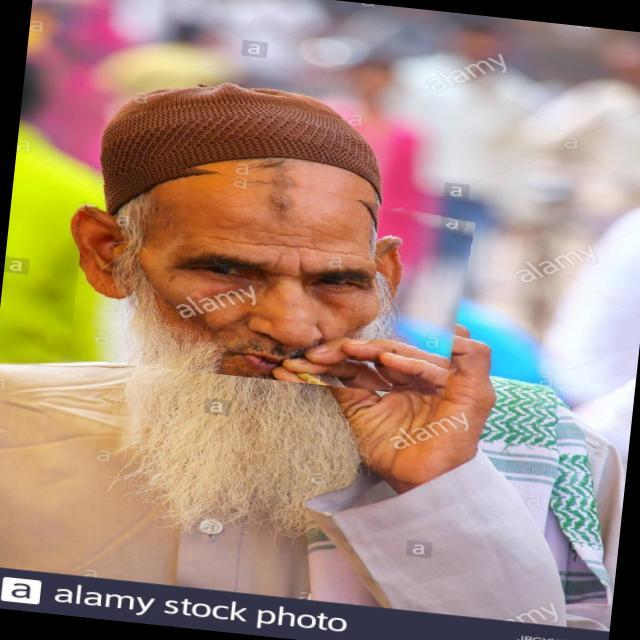cigarette: (294, 337, 376, 387)
